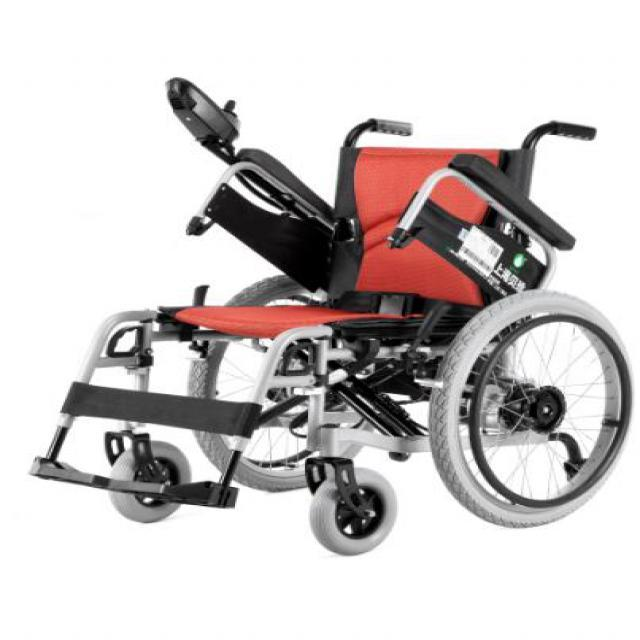wheelchair: (29, 110, 636, 575)
